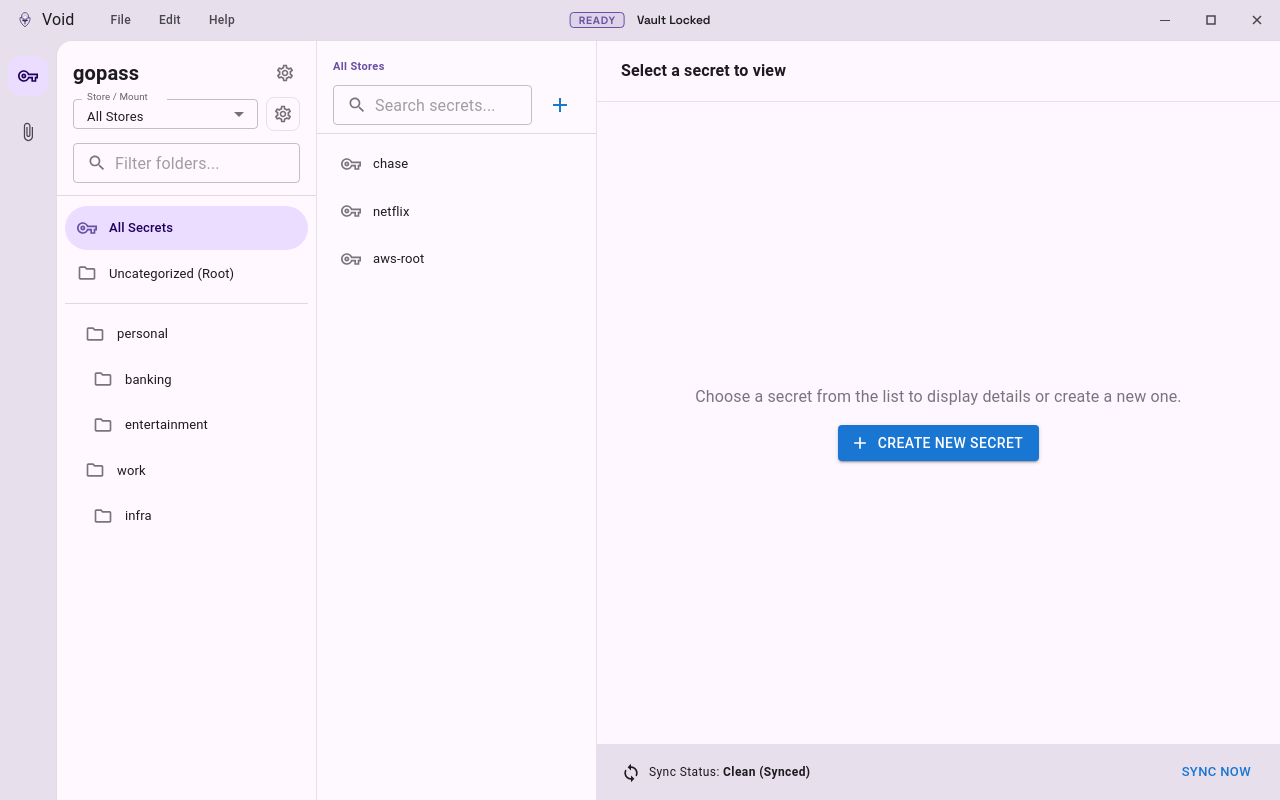
it: Dashboard Component › renders navigation folders tree and secret list in pane 2
Expected: the text "personal" is shown, top-left (117, 326), bottom-right (168, 341)
Expected: the text "work" is shown, top-left (117, 462), bottom-right (146, 478)
# Select personal/banking folder (rendered as "banking")
Click the text "banking" at (148, 379), box top-left (125, 372), bottom-right (172, 386)
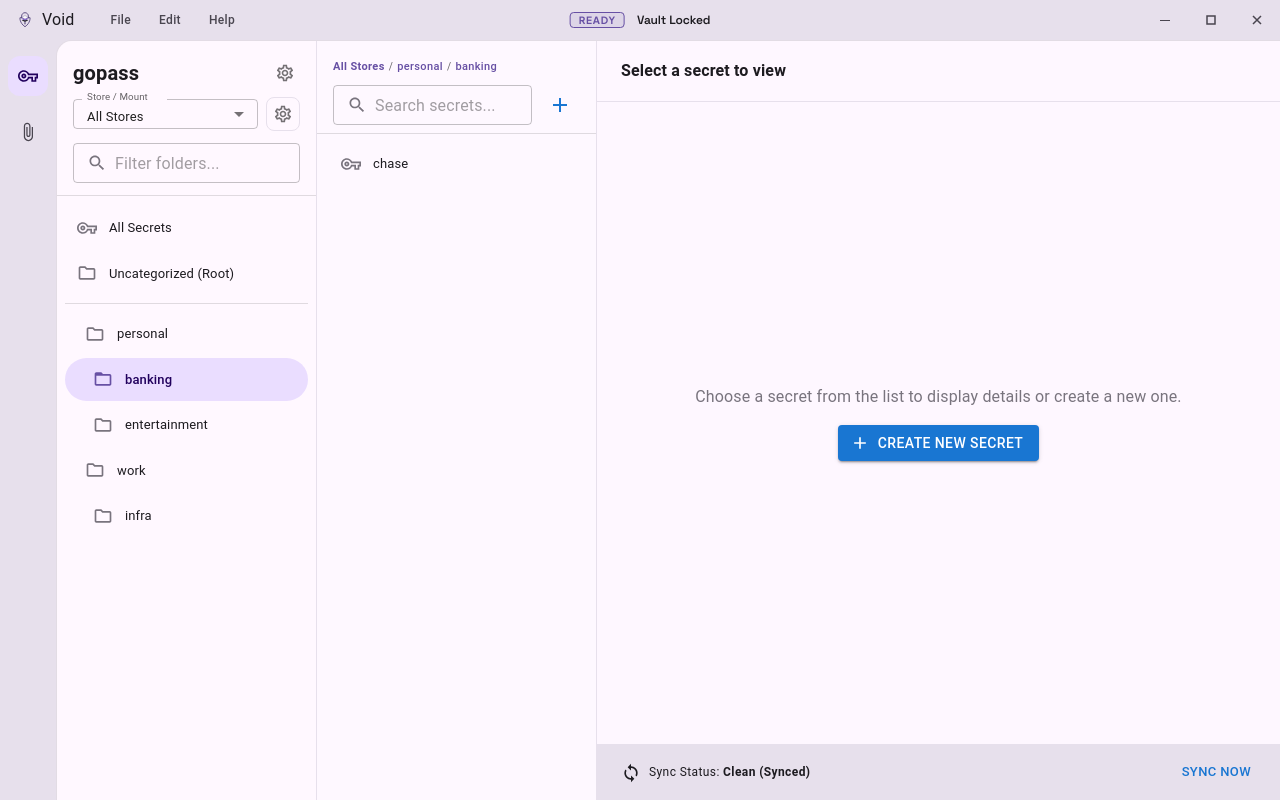
Expected: the text "chase" is shown, top-left (373, 156), bottom-right (408, 171)
Result: the text "aws-root" is gone
